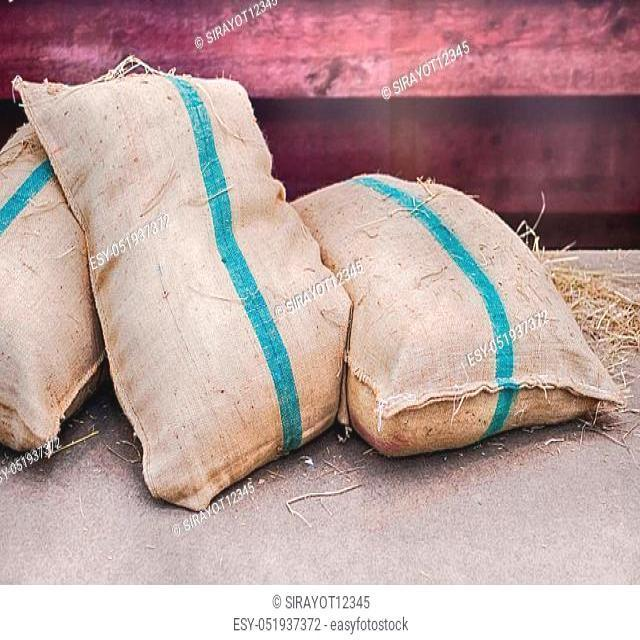gunny_bag: (11, 70, 356, 514), (284, 174, 622, 462), (1, 117, 121, 463)
